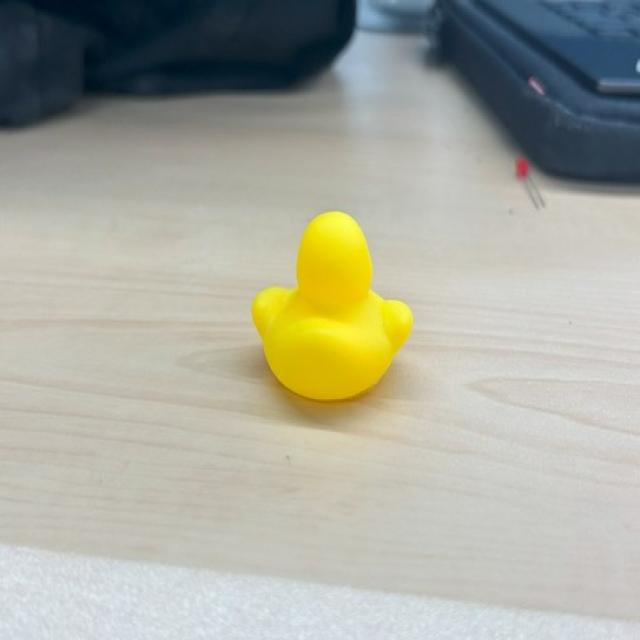duck_regular: (234, 197, 426, 424)
